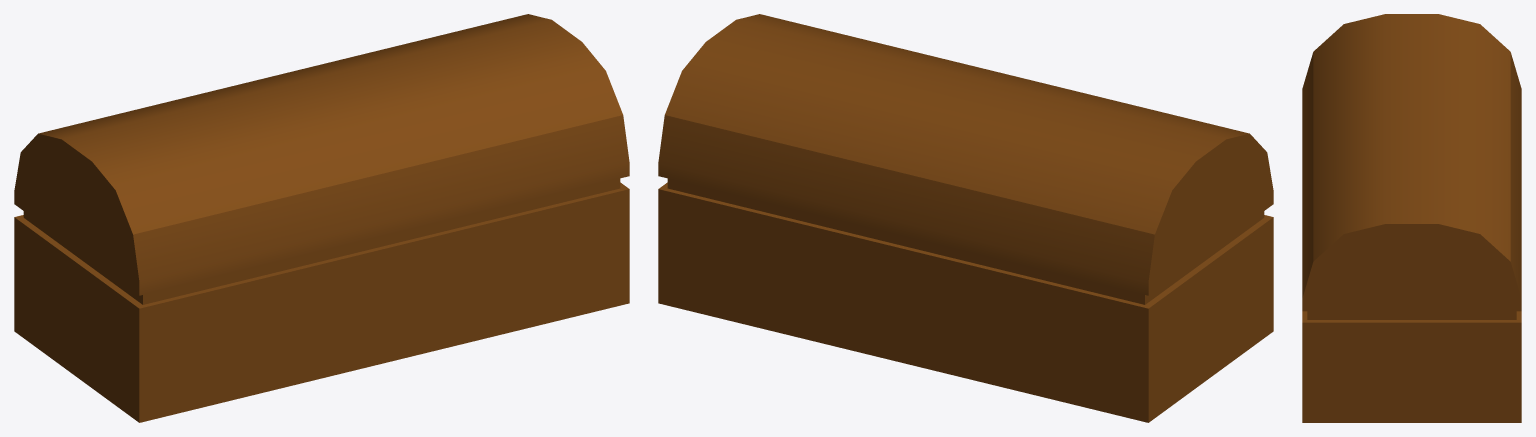
File: SM_CHEST_01_low.fbx
3 views of the same model, side by side, from view 1: azimuth 30°, elevation 25°; view 2: azimuth 150°, elevation 25°; view 3: azimuth 270°, elevation 25° (orthographic). The views are drawn at different scales.
Visible parts, largest first — view 1: chest; view 2: chest; view 3: chest.
Part boxes in pixels (x1=…): chest: x1=14, y1=14, x2=629, y2=422; chest: x1=658, y1=14, x2=1273, y2=422; chest: x1=1302, y1=14, x2=1521, y2=422.
Size of the model in its own units: 36.41 by 16.09 by 16.09.
